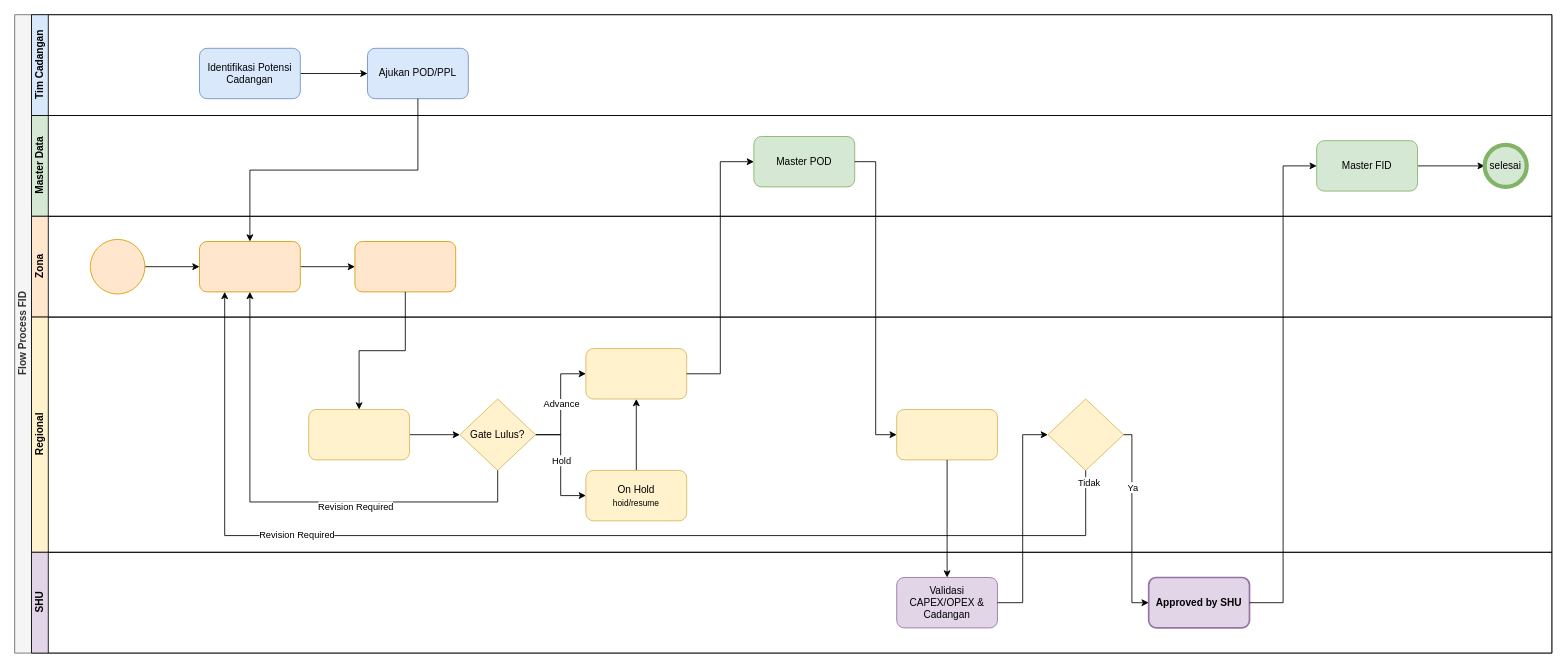
This 1567x668 diagram has some shape labels left out. The shapes that lost their labels are listed below. From the top down, each one's centre as x and y in pixels, then its label:
At point 117,266: "Mulai".
At point 249,266: "Usulan FID Baru Draft".
At point 405,266: "Kirim Usulan FID".
At point 636,373: "Fase Seleksi DG1 . TRM1 . GR2 . DG2".
At point 359,434: "Fase Inisiasi Proyek FID".
At point 947,434: "Fase Kajian Lanjut PRR . GR3 . DG3".
At point 1085,434: "DG3 Lolos?".
